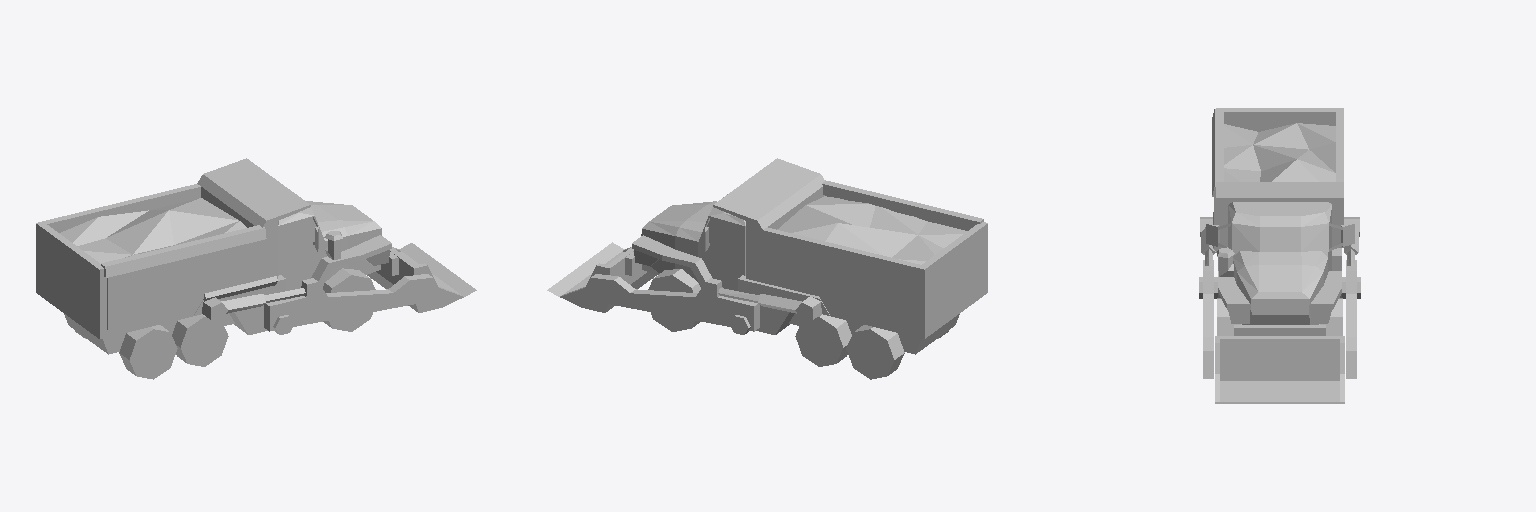
Rendered from harvester.obj.
3 renders of one model, left to right at view 1: azimuth 30°, elevation 25°; view 2: azimuth 150°, elevation 25°; view 3: azimuth 270°, elevation 25°, orthographic.
Visible parts, largest first — view 1: Circle; view 2: Circle; view 3: Circle.
Part boxes in pixels (left/top/right/bottom): Circle: left=36, top=158, right=476, bottom=379; Circle: left=547, top=158, right=987, bottom=379; Circle: left=1199, top=108, right=1360, bottom=403.
Size of the model in its own units: 6.64 by 2.32 by 2.47.